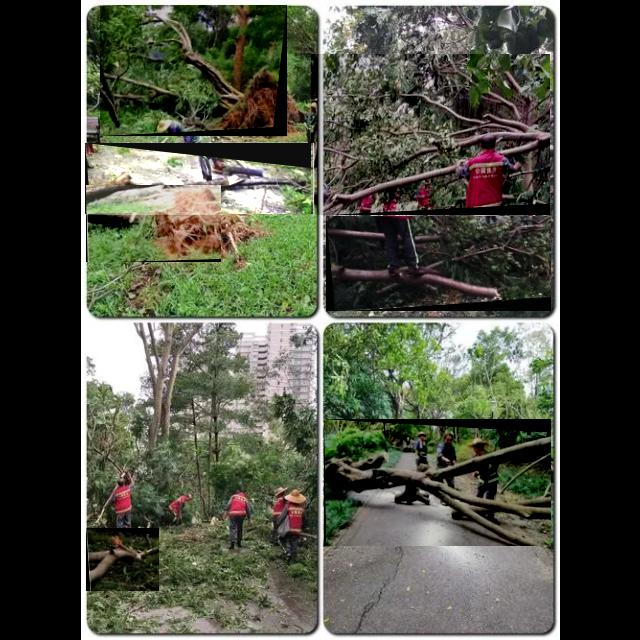Fallen Tree: (311, 54, 551, 216), (324, 419, 552, 547), (100, 5, 288, 137), (326, 216, 552, 312), (85, 143, 315, 215), (86, 185, 222, 263), (86, 528, 160, 592)
